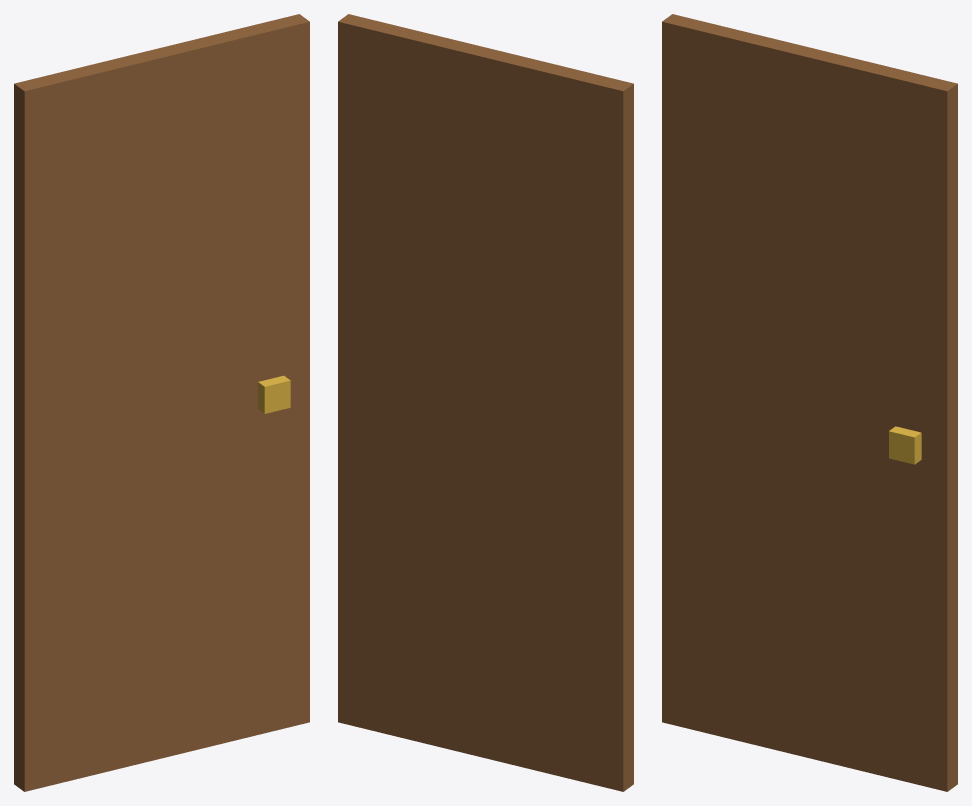
Rendered from door_panel.glb.
3 renders of one model, left to right at view 1: azimuth 30°, elevation 25°; view 2: azimuth 150°, elevation 25°; view 3: azimuth 330°, elevation 25°, orthographic.
Visible parts, largest first — view 1: door_panel; view 2: door_panel; view 3: door_panel.
Boxes of the visible parts, left/top/right/bottom form: door_panel: left=14, top=14, right=309, bottom=791; door_panel: left=338, top=14, right=633, bottom=791; door_panel: left=662, top=14, right=957, bottom=791.
Size of the model in its own units: 0.55 by 1.29 by 0.0575.
Materials: 1 (1 with a texture image).
